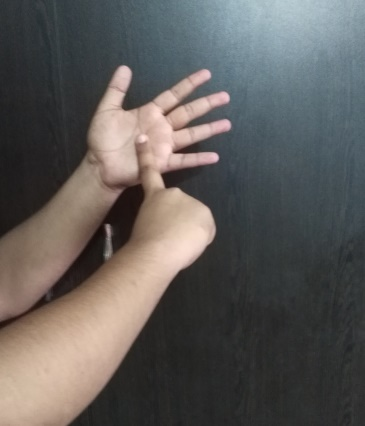oo: (85, 64, 233, 266)
